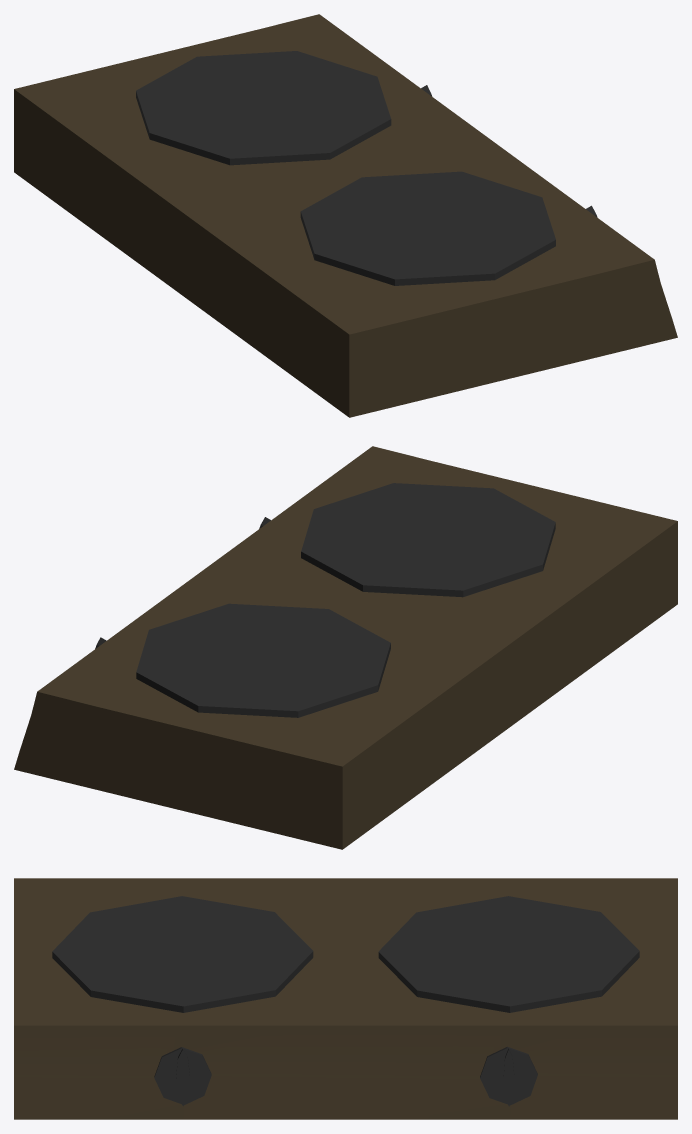
The model's file is gasStove.fbx.
3 views of the same model, one above another, from view 1: azimuth 30°, elevation 25°; view 2: azimuth 150°, elevation 25°; view 3: azimuth 270°, elevation 25° (orthographic).
Visible parts, largest first — view 1: gasStove; view 2: gasStove; view 3: gasStove.
Part boxes in pixels (<box>): gasStove: <box>14,14,677,417</box>; gasStove: <box>14,446,677,849</box>; gasStove: <box>14,878,677,1119</box>.
Bounding box in the file's own units: 9.09 × 2.28 × 15.42.
